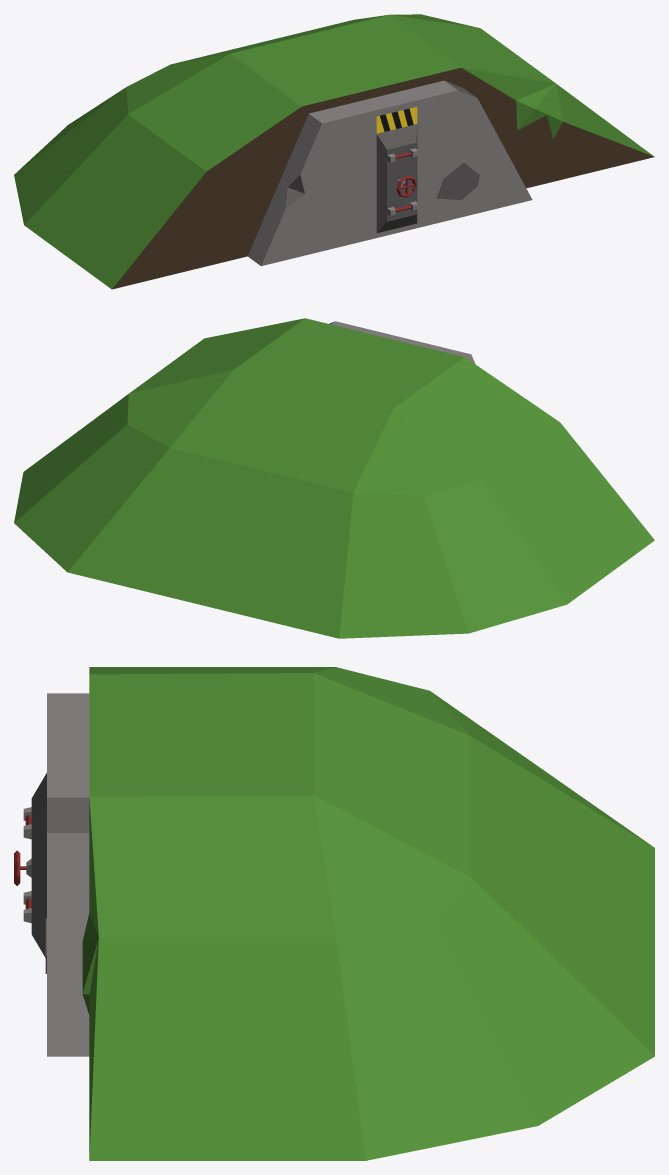
Rendered from apocalypse_bunker-hill.fbx.
3 renders of one model, top to bottom at view 1: azimuth 30°, elevation 25°; view 2: azimuth 150°, elevation 25°; view 3: azimuth 270°, elevation 25°, orthographic. The views are drawn at different scales.
Parts seen in each view (by area): view 1: bunker_hill_bunker_hill_base, bunker_hill_bunker_hill_door; view 2: bunker_hill_bunker_hill_base; view 3: bunker_hill_bunker_hill_base, bunker_hill_bunker_hill_door.
Boxes of the visible parts, bbox=[...] form: bunker_hill_bunker_hill_base: bbox=[14, 14, 654, 289]; bunker_hill_bunker_hill_door: bbox=[376, 124, 417, 232]; bunker_hill_bunker_hill_base: bbox=[14, 318, 654, 638]; bunker_hill_bunker_hill_base: bbox=[45, 667, 654, 1160]; bunker_hill_bunker_hill_door: bbox=[14, 773, 46, 957].
Size of the model in its own units: 200 by 73.39 by 130.
